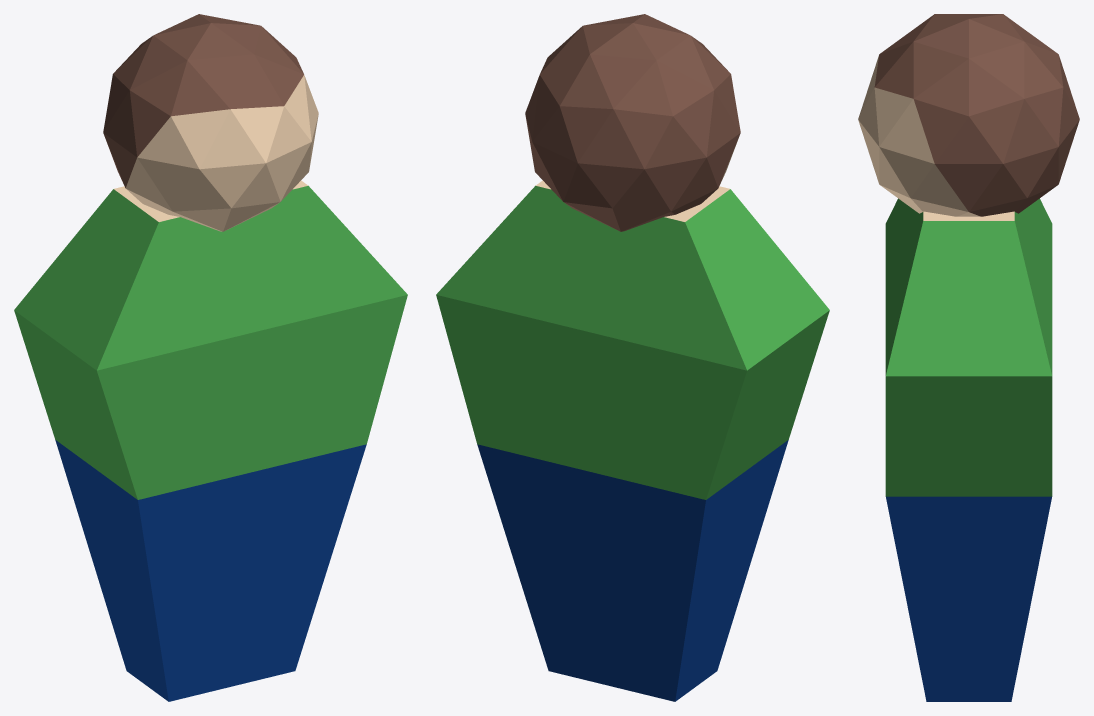
The model's file is DudeOBJ.obj.
3 renders of one model, left to right at view 1: azimuth 30°, elevation 25°; view 2: azimuth 150°, elevation 25°; view 3: azimuth 270°, elevation 25°, orthographic.
Visible parts, largest first — view 1: Cube; view 2: Cube; view 3: Cube.
Boxes of the visible parts, x1,y1,x2,y2 form: Cube: (14, 14, 407, 701); Cube: (436, 14, 829, 701); Cube: (858, 14, 1079, 701).
Size of the model in its own units: 1.03 by 2.05 by 0.631.
